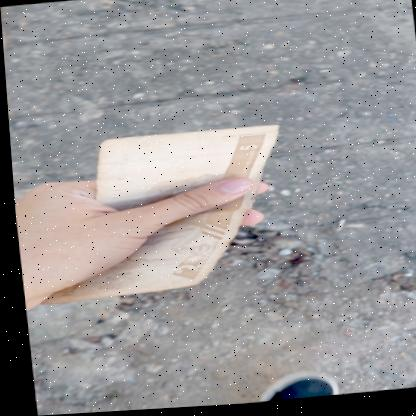five-back-vef: (20, 127, 293, 307)
